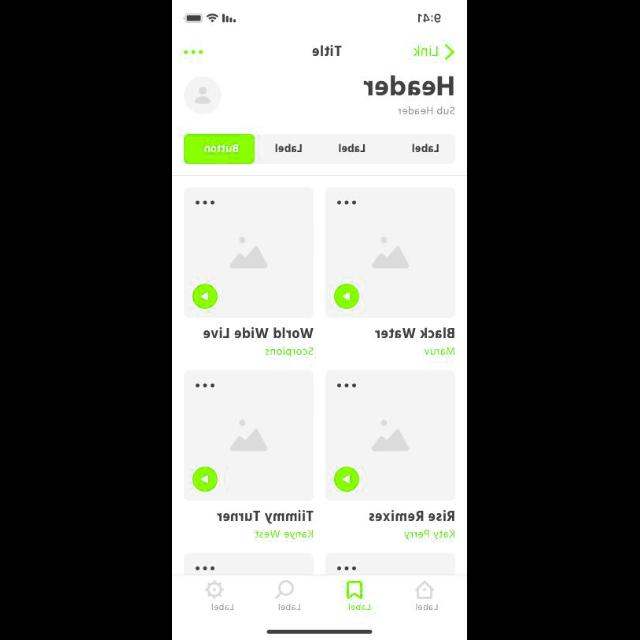icon: (328, 370, 457, 498), (184, 76, 222, 114), (334, 466, 362, 492), (193, 284, 219, 310), (334, 283, 360, 309), (193, 467, 219, 493), (276, 580, 296, 600), (416, 580, 434, 600), (346, 580, 364, 600), (206, 580, 224, 598), (183, 48, 205, 56), (444, 44, 454, 61), (336, 200, 358, 207), (196, 200, 217, 207), (195, 565, 218, 571), (336, 382, 358, 388), (195, 382, 217, 388), (338, 565, 358, 571)
image: (326, 187, 456, 319), (183, 188, 314, 318), (185, 370, 315, 500)
text: (363, 76, 455, 96), (203, 326, 314, 340), (217, 510, 315, 524), (375, 326, 457, 339), (368, 509, 456, 521), (255, 528, 315, 540), (264, 346, 314, 358), (398, 106, 456, 116), (404, 530, 456, 540), (312, 43, 342, 57), (413, 44, 439, 58), (274, 142, 304, 154), (338, 142, 368, 154), (412, 142, 440, 154), (424, 348, 456, 357), (348, 602, 372, 612), (414, 603, 440, 611), (278, 603, 302, 611), (211, 603, 235, 611)
textbutton: (183, 134, 254, 164)
toolbar: (173, 33, 467, 67)
uppertaskbar: (182, 13, 442, 24)
